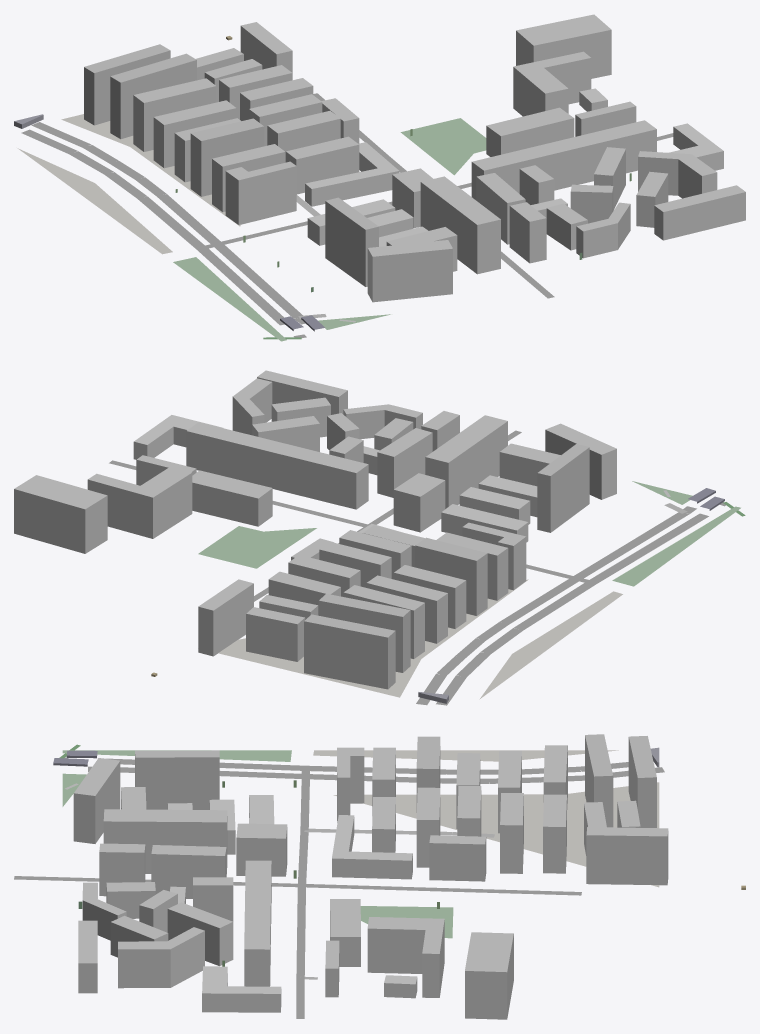
The picture shows the model from 3 angles, top to bottom: view 1: azimuth 30°, elevation 25°; view 2: azimuth 150°, elevation 25°; view 3: azimuth 270°, elevation 25°; orthographic projection. The views are drawn at different scales.
Bounding box in the file's own units: 547 × 56.46 × 613.
